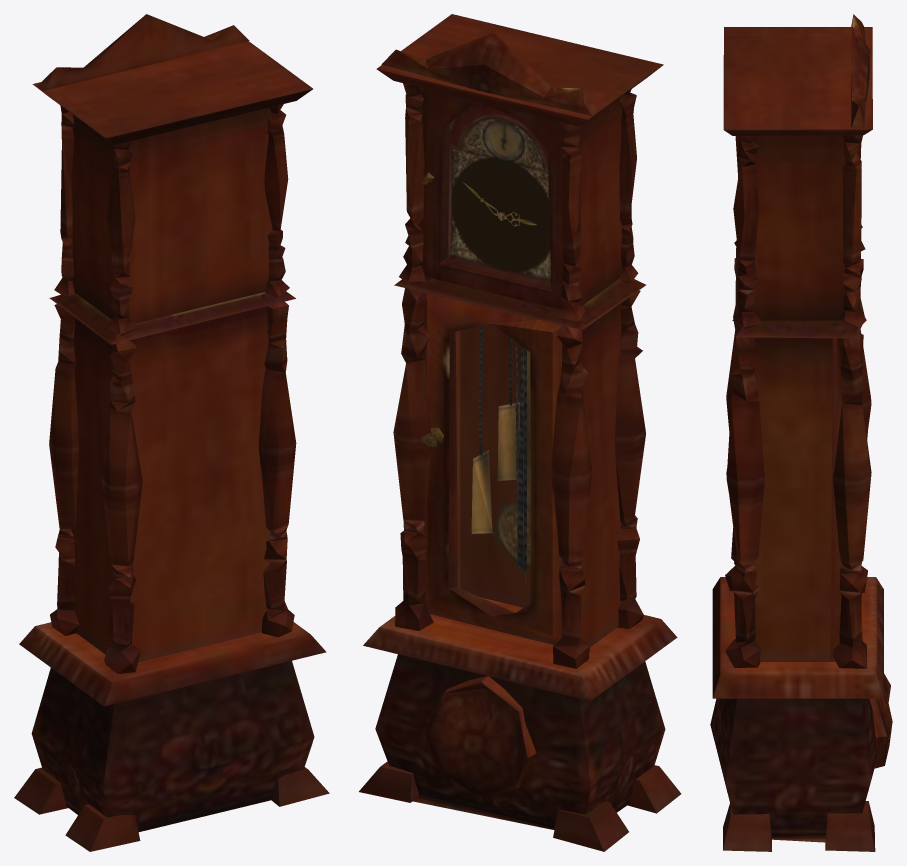
Rendered from clock-grandfather-b.lod1.glb.
3 renders of one model, left to right at view 1: azimuth 30°, elevation 25°; view 2: azimuth 150°, elevation 25°; view 3: azimuth 270°, elevation 25°, orthographic. The views are drawn at different scales.
Visible parts, largest first — view 1: clock-grandfather-b; view 2: clock-grandfather-b; view 3: clock-grandfather-b.
Boxes of the visible parts, <box> form: clock-grandfather-b: <box>14,14,329,851</box>; clock-grandfather-b: <box>359,14,681,851</box>; clock-grandfather-b: <box>710,14,892,851</box>.
Bounding box in the file's own units: 0.7547 × 2.3 × 0.4922.
Materials: 4 (3 with a texture image).
